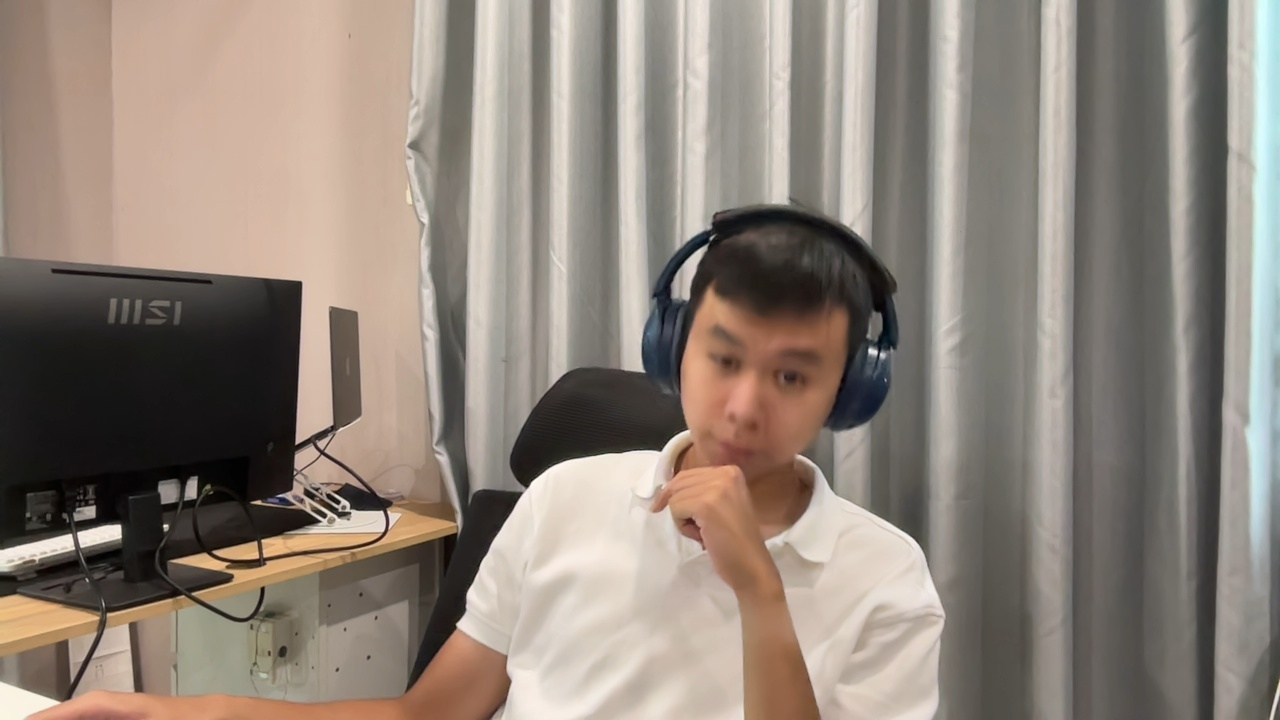over_ear: (639, 203, 901, 437), (639, 204, 901, 411)
